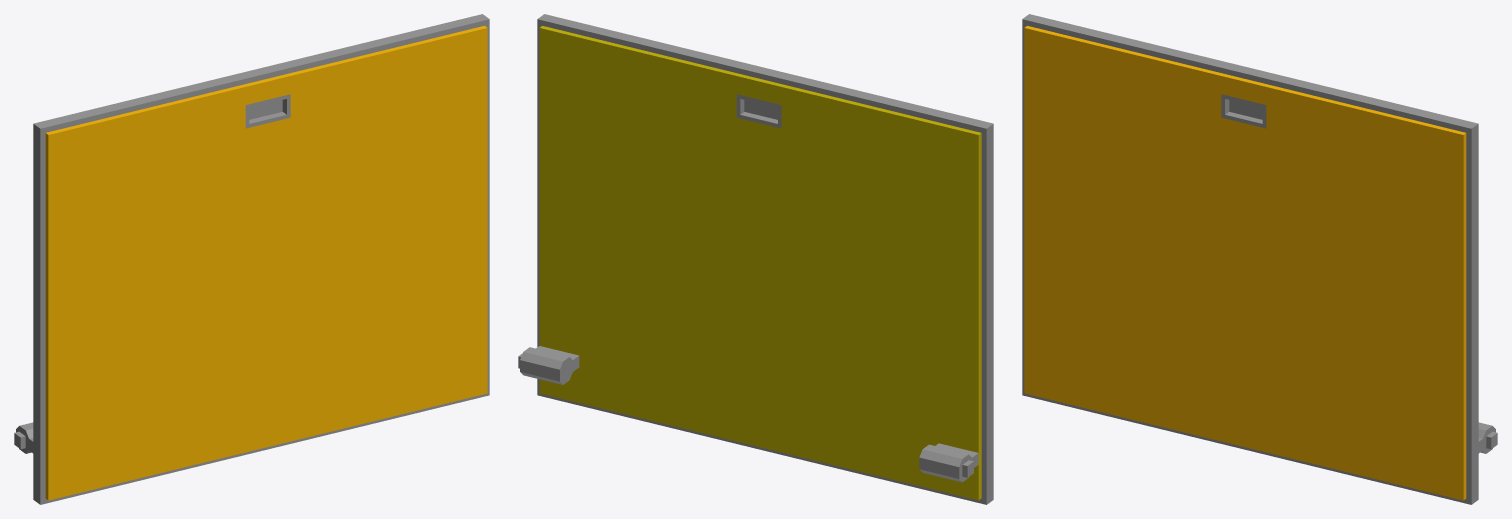
File: door_manual_flush_outswing_5x3_dynamic.dae
The picture shows the model from 3 angles, left to right: view 1: azimuth 30°, elevation 25°; view 2: azimuth 150°, elevation 25°; view 3: azimuth 330°, elevation 25°; orthographic projection.
Parts seen in each view (by area): view 1: Cube; view 2: Cube; view 3: Cube.
Part boxes in pixels (bbox=[...]): Cube: bbox=[14, 14, 489, 504]; Cube: bbox=[518, 14, 993, 504]; Cube: bbox=[1022, 14, 1497, 504].
Size of the model in its own units: 1.25 by 0.1562 by 1.
